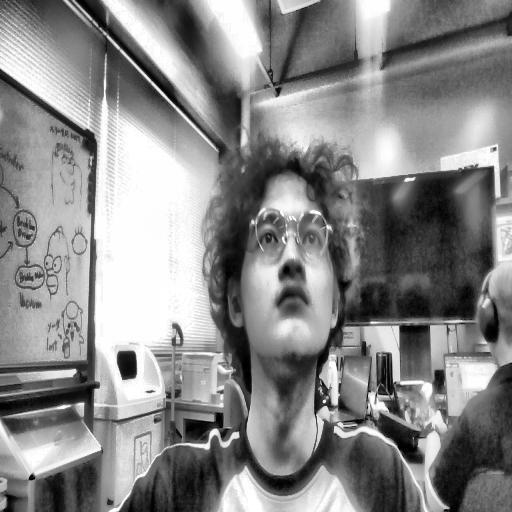Daifuku: (199, 127, 361, 389)
Not Daifuku: (478, 261, 512, 377)
